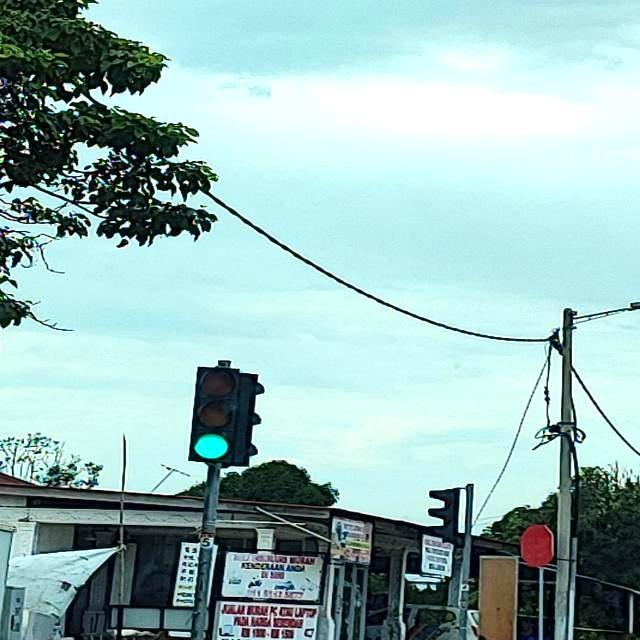Green: (188, 370, 240, 462)
